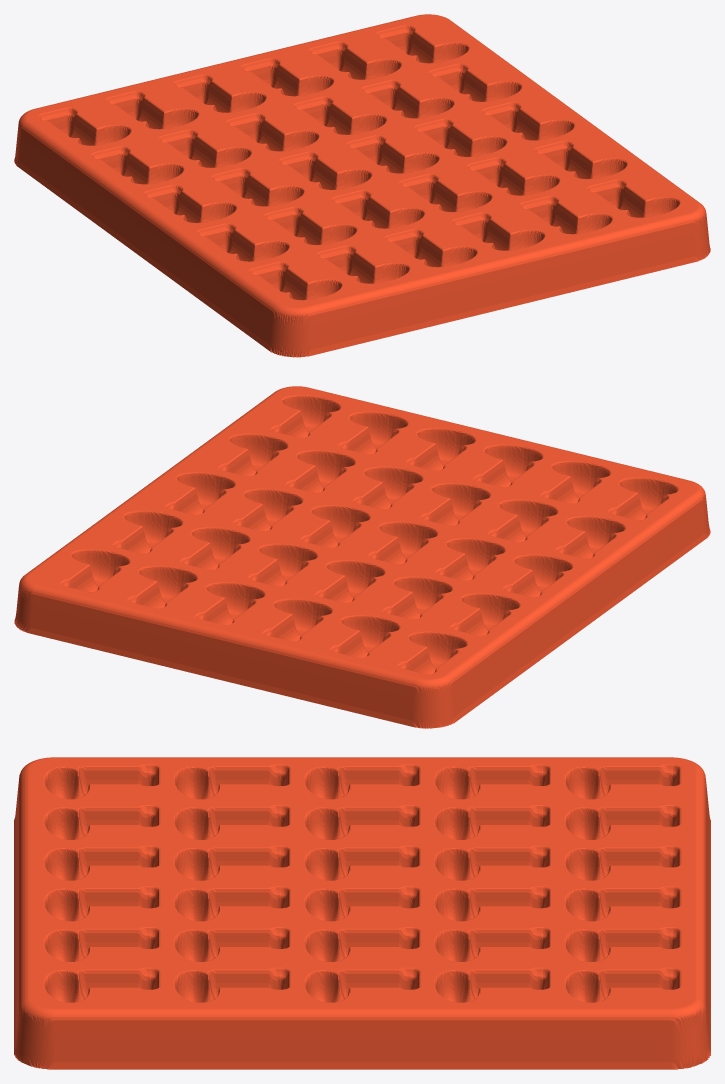
File: mold.glb
3 renders of one model, top to bottom at view 1: azimuth 30°, elevation 25°; view 2: azimuth 150°, elevation 25°; view 3: azimuth 270°, elevation 25°, orthographic. The views are drawn at different scales.
Visible parts, largest first — view 1: geometry_0; view 2: geometry_0; view 3: geometry_0.
Boxes of the visible parts, x1,y1,x2,y2 form: geometry_0: [14, 14, 710, 357]; geometry_0: [14, 386, 710, 728]; geometry_0: [14, 757, 710, 1069].
Size of the model in its own units: 0.1415 by 0.0136 by 0.1581.
